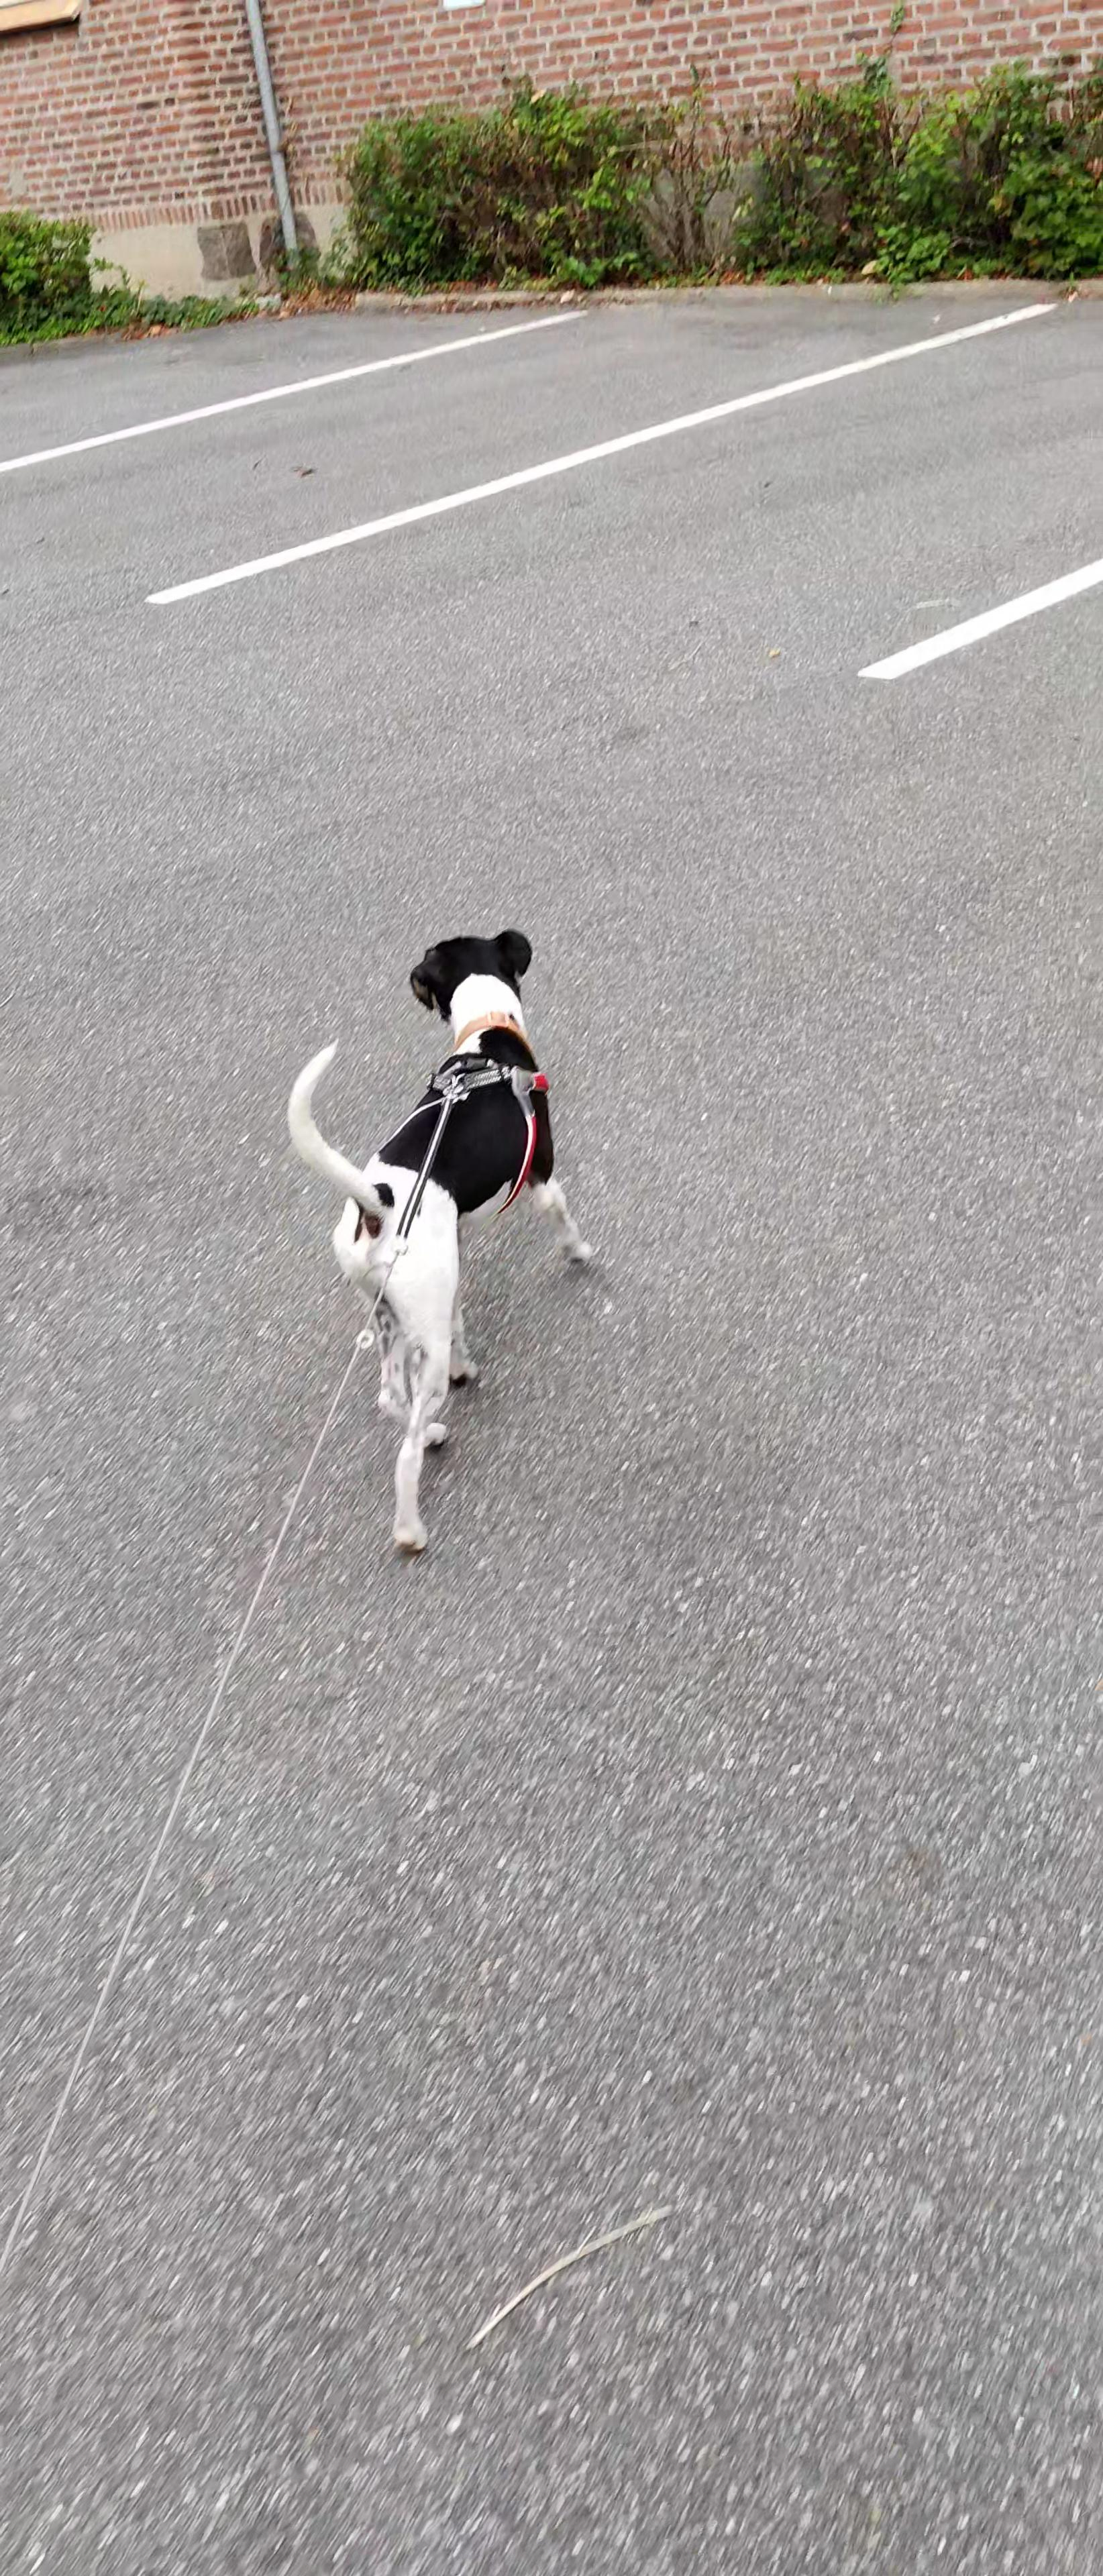Dog: (268, 922, 607, 1564)
